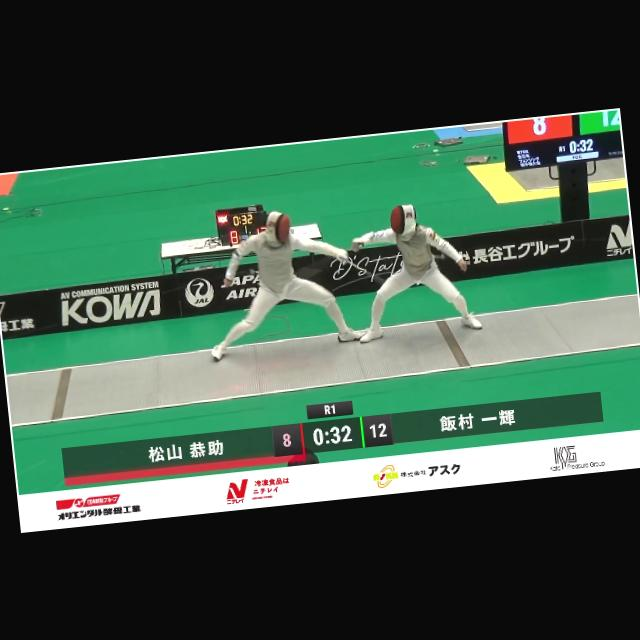blade: (336, 246, 389, 290)
